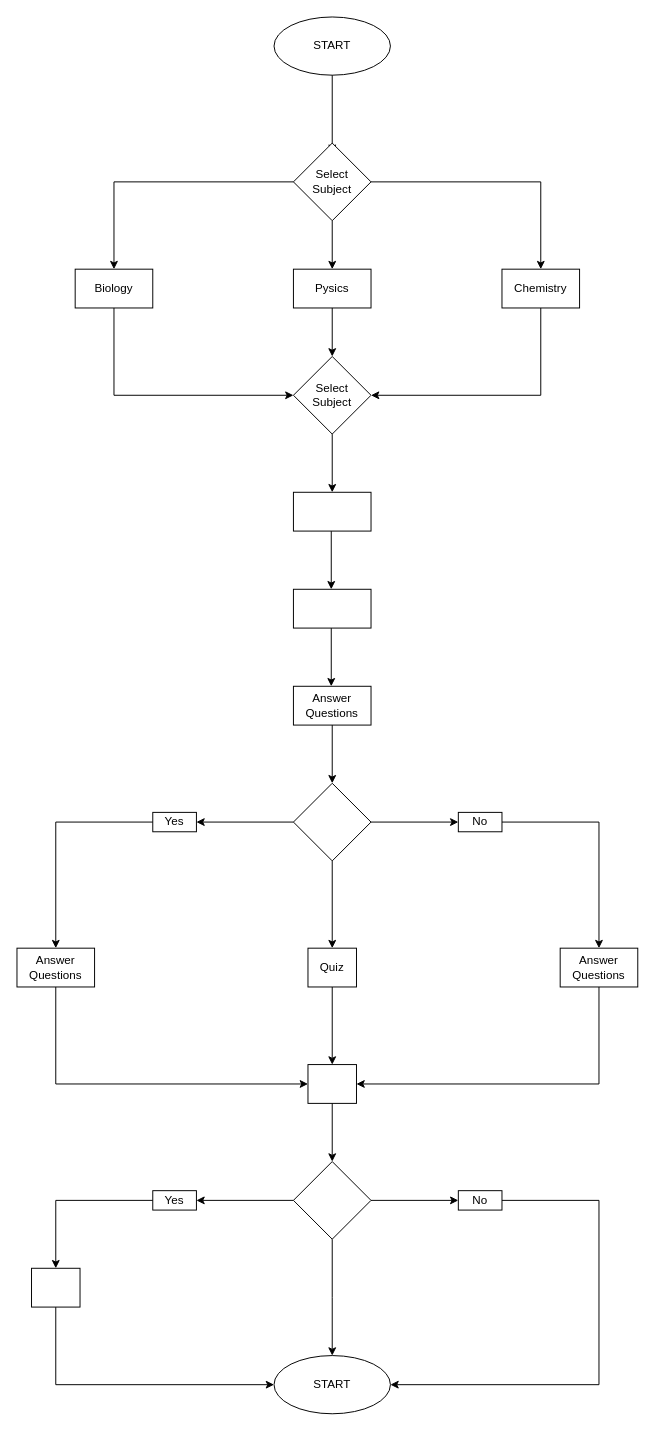
This 655x1431 diagram has some shape labels left out. Here are the shapes that lost their labels. From the top down, the centre of each, then its label:
At pixel 331 511: "Play Game".
At pixel 331 608: "Do Quiz".
At pixel 331 821: "Correct?".
At pixel 331 1083: "Update Score".
At pixel 331 1200: "Do More Subjects?".
At pixel 55 1287: "Return To Hub".
